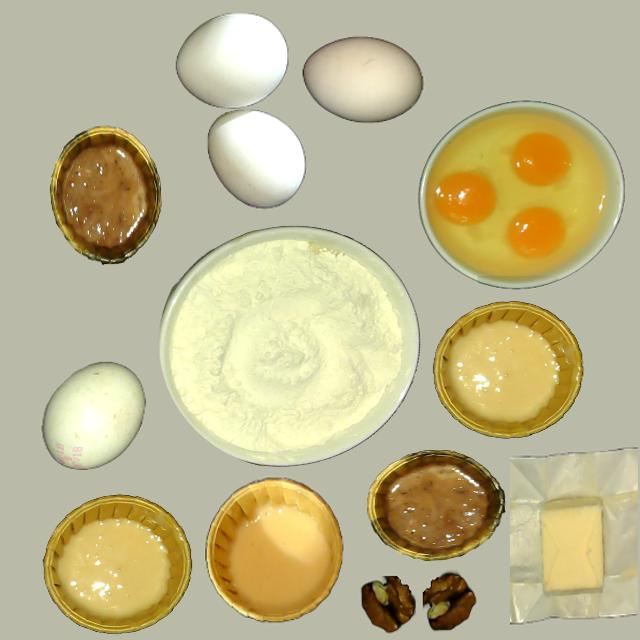Egg: (433, 172, 497, 226), (511, 133, 572, 187), (507, 205, 567, 258)
Flour: (158, 230, 410, 460)
